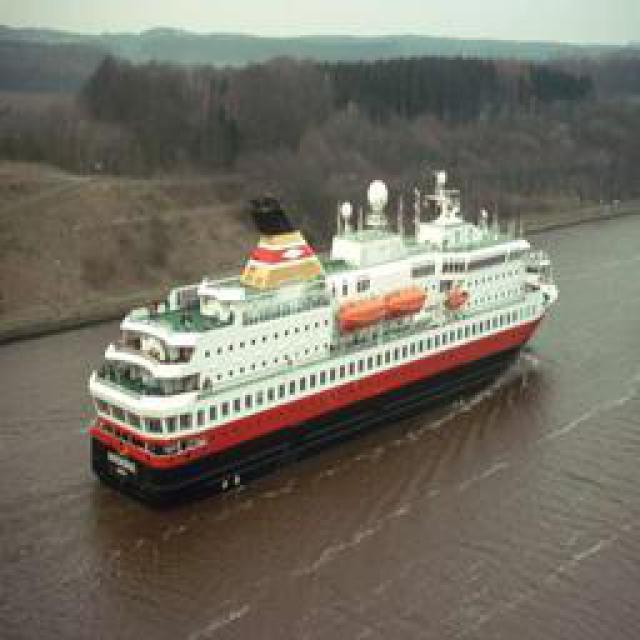Ship: (94, 165, 557, 518)
